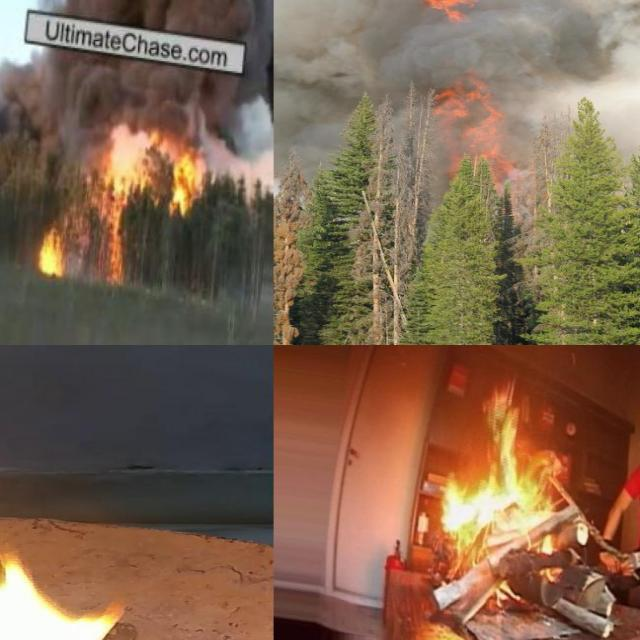fire: (0, 402, 178, 640), (441, 381, 565, 555), (426, 82, 514, 180), (101, 179, 128, 289), (36, 220, 70, 278), (170, 144, 194, 216), (425, 0, 479, 24)
smoke: (276, 0, 424, 154), (479, 0, 640, 90), (0, 62, 154, 142), (194, 78, 274, 192)
